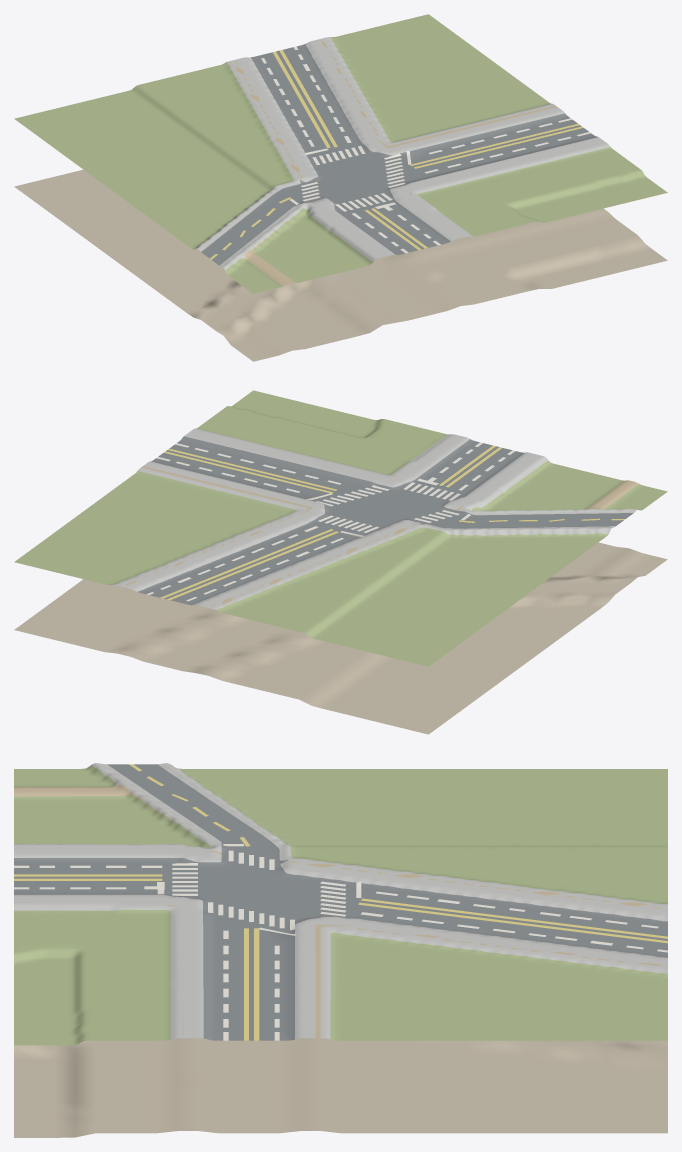
3 views of the same model, one above another, from view 1: azimuth 30°, elevation 25°; view 2: azimuth 150°, elevation 25°; view 3: azimuth 270°, elevation 25° (orthographic). The views are drawn at different scales.
Visible parts, largest first — view 1: s_-3_-2__grass, s_-3_-2__soil, s_-3_-2__asphalt, s_-3_-2__stone_paving, s_-3_-2__white_marking, s_-3_-2__yellow_marking, s_-3_-2__timber_deck; view 2: s_-3_-2__grass, s_-3_-2__soil, s_-3_-2__asphalt, s_-3_-2__stone_paving, s_-3_-2__white_marking, s_-3_-2__yellow_marking, s_-3_-2__timber_deck; view 3: s_-3_-2__grass, s_-3_-2__soil, s_-3_-2__asphalt, s_-3_-2__stone_paving, s_-3_-2__white_marking, s_-3_-2__yellow_marking, s_-3_-2__timber_deck.
Boxes of the visible parts, x1,y1,x2,y2 form: s_-3_-2__grass: [14, 14, 667, 293]; s_-3_-2__soil: [14, 148, 667, 361]; s_-3_-2__asphalt: [201, 44, 597, 265]; s_-3_-2__stone_paving: [195, 37, 610, 270]; s_-3_-2__white_marking: [261, 46, 590, 253]; s_-3_-2__yellow_marking: [210, 50, 583, 259]; s_-3_-2__timber_deck: [234, 40, 604, 285]; s_-3_-2__grass: [14, 390, 667, 666]; s_-3_-2__soil: [14, 495, 667, 734]; s_-3_-2__asphalt: [138, 436, 633, 605]; s_-3_-2__stone_paving: [113, 428, 637, 609]; s_-3_-2__white_marking: [146, 442, 515, 601]; s_-3_-2__yellow_marking: [160, 445, 625, 599]; s_-3_-2__timber_deck: [125, 430, 638, 606]; s_-3_-2__grass: [14, 765, 667, 1045]; s_-3_-2__soil: [14, 882, 667, 1137]; s_-3_-2__asphalt: [14, 764, 667, 1040]; s_-3_-2__stone_paving: [14, 763, 667, 1039]; s_-3_-2__white_marking: [14, 844, 667, 1040]; s_-3_-2__yellow_marking: [14, 764, 667, 1040]; s_-3_-2__timber_deck: [14, 784, 663, 1038].
Size of the model in its own units: 128 by 21.51 by 128.
